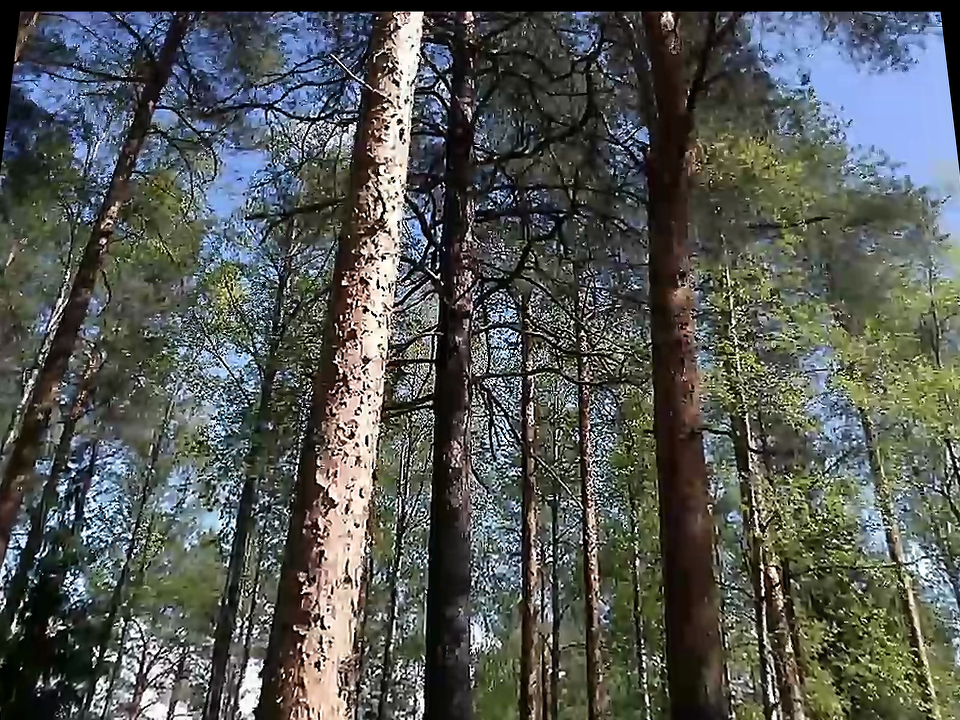branch: (792, 546, 938, 582), (231, 98, 346, 136), (261, 188, 335, 232), (486, 365, 564, 383), (481, 180, 580, 193), (395, 349, 432, 369)
trunk: (642, 155, 740, 687), (424, 142, 500, 692)
